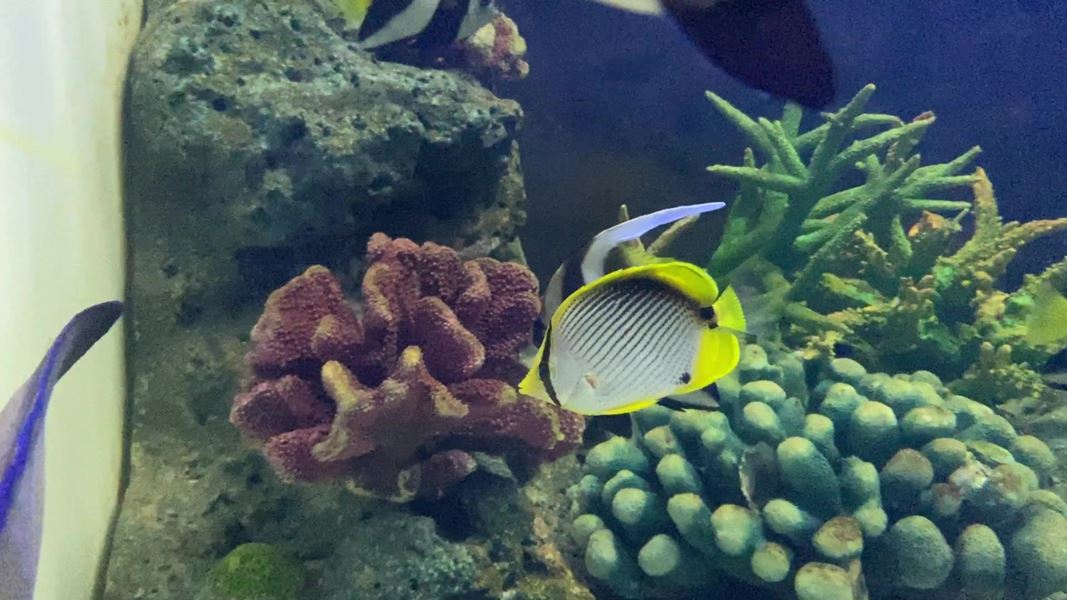Black-backed butterflyfish: (506, 251, 784, 428)
